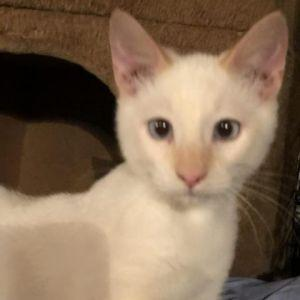siamese: (100, 1, 297, 215)
